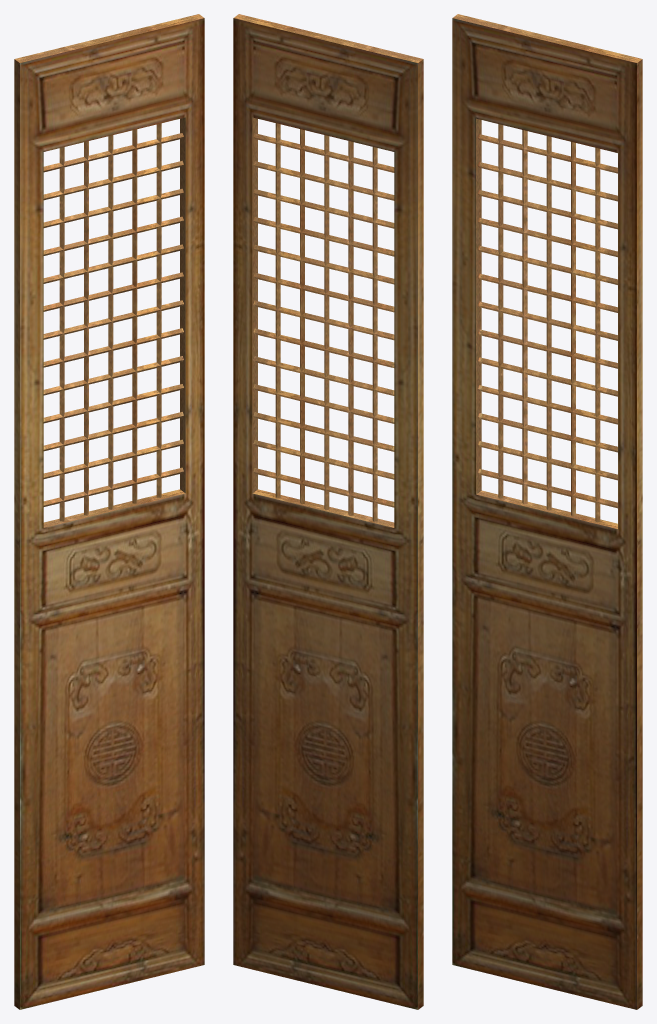
Rendered from _divider.FBX.
3 renders of one model, left to right at view 1: azimuth 30°, elevation 25°; view 2: azimuth 150°, elevation 25°; view 3: azimuth 330°, elevation 25°, orthographic.
Parts seen in each view (by area): view 1: Box01; view 2: Box01; view 3: Box01.
Boxes of the visible parts, x1,y1,x2,y2 form: Box01: [14, 14, 204, 1009]; Box01: [233, 14, 423, 1009]; Box01: [452, 14, 642, 1009].
Size of the model in its own units: 76.07 by 373 by 4.02.
